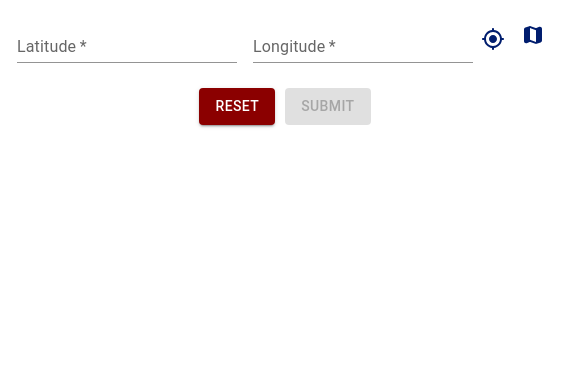
Test: Home Page › fetches chsa area code and name for a lat/lng location
Expected: the number field with test id "input-longitude" is shown, [253,31,473,63]
Expected: the button with test id "btn-reset" is shown, [200,88,275,124]
In the number field with test id "input-latitude": (127, 47) [17,31,237,63], type "48.4251378"
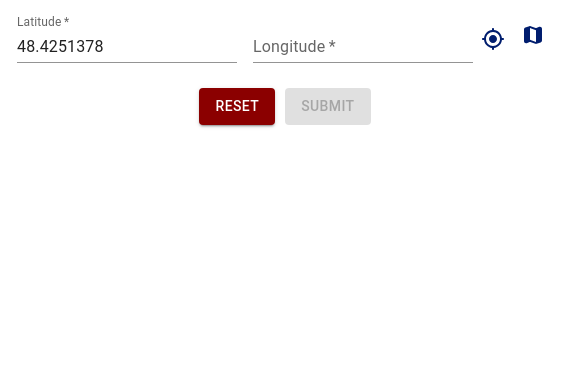
In the number field with test id "input-longitude": (363, 47) [253,31,473,63], type "-123.3646335"
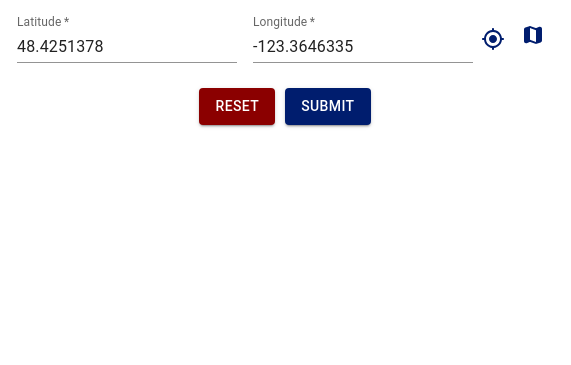
Click the button with test id "btn-submit": (328, 106) [285,88,370,124]
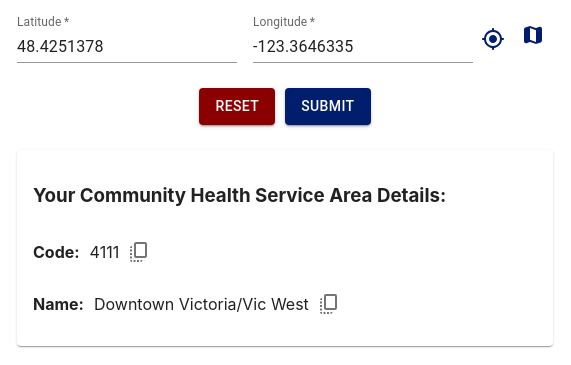
Expected: the text "4111" is shown, [90,242,119,262]
Expected: the text "Downtown Victoria/Vic West" is shown, [94,294,309,314]
